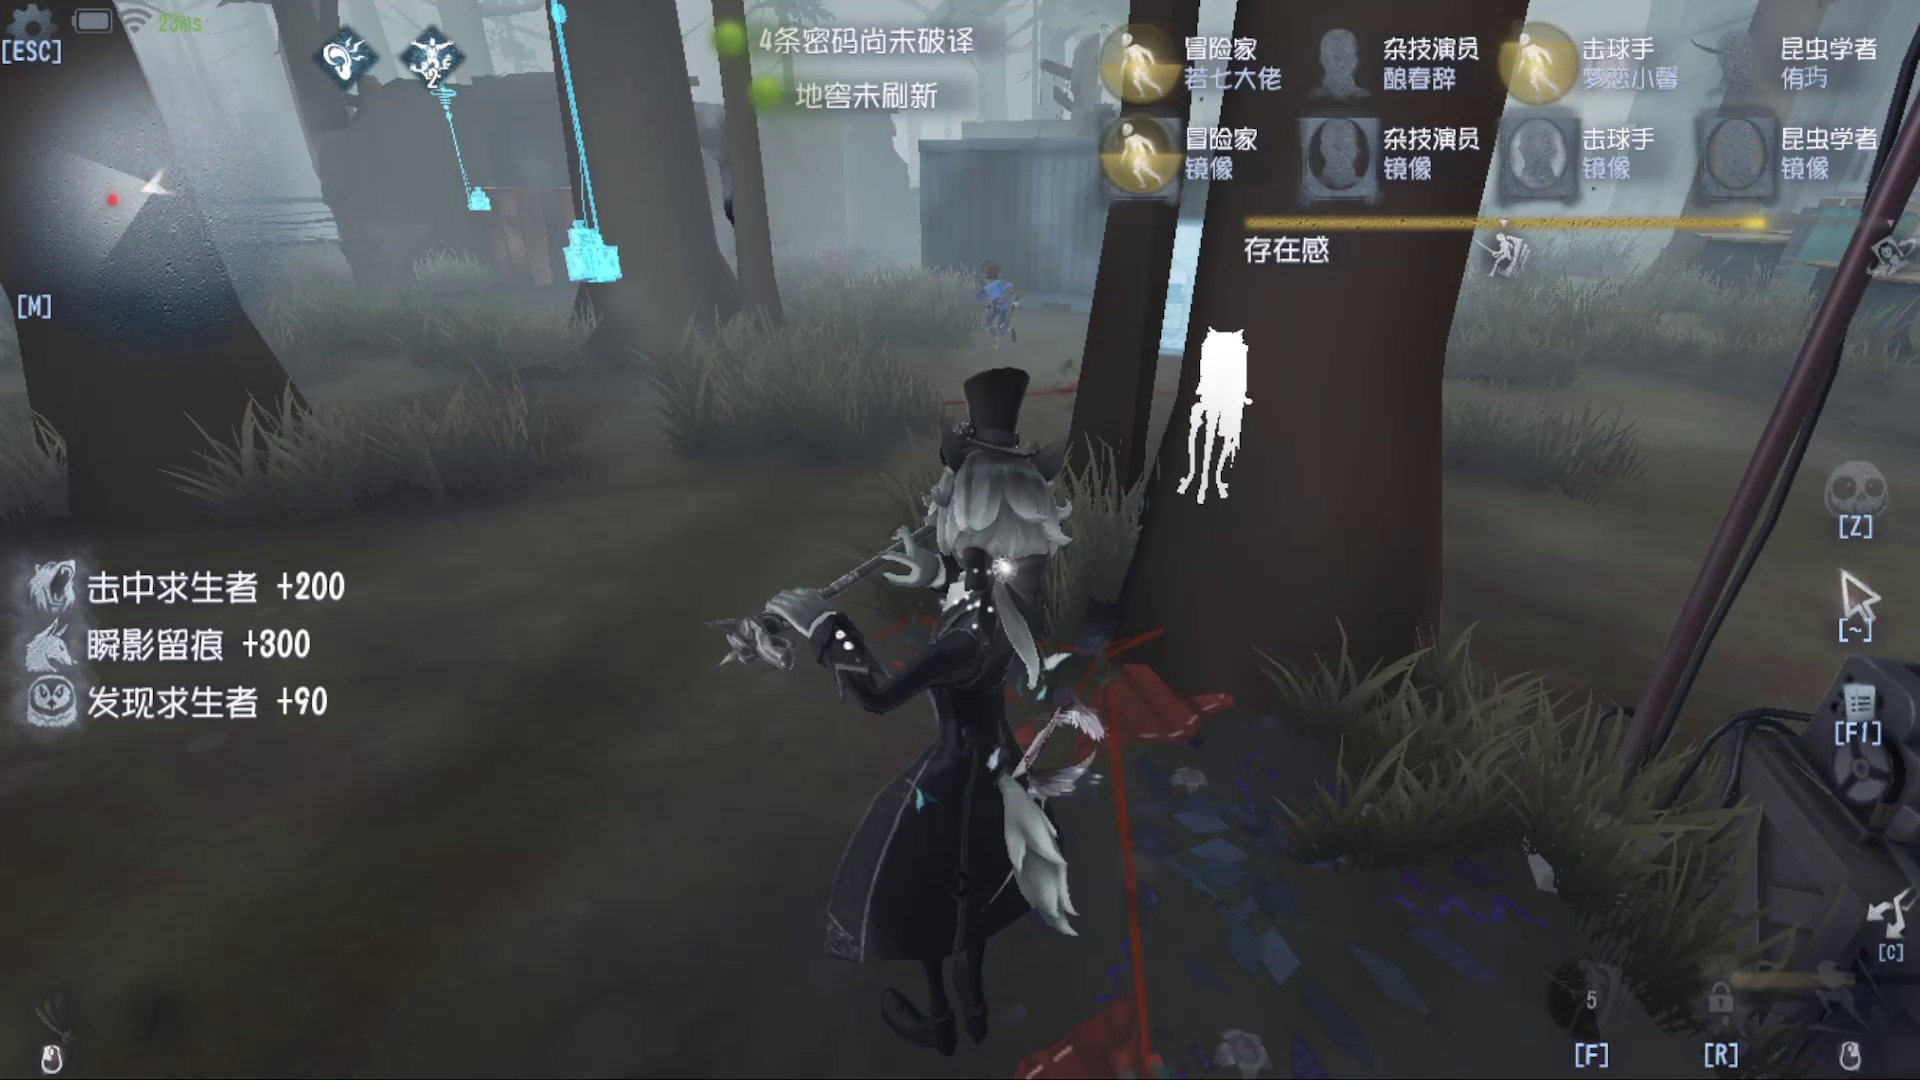密码机: (514, 1, 663, 319), (411, 75, 489, 220)
求生者: (960, 248, 1031, 345)
